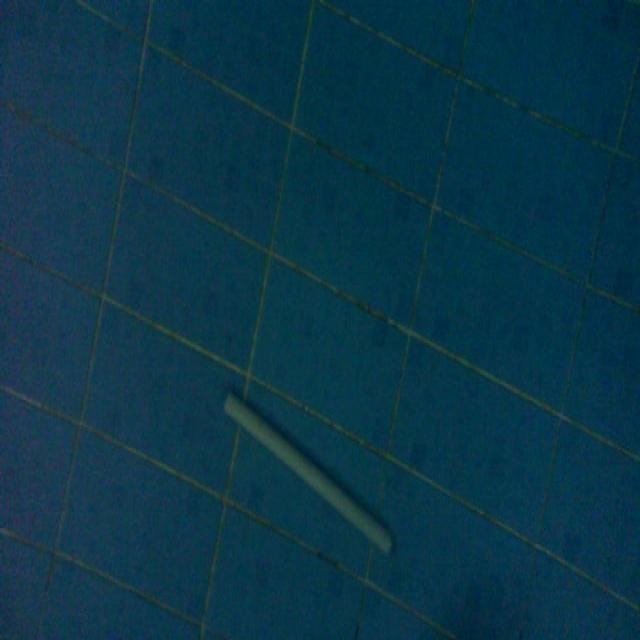Cube: (221, 384, 395, 558)
